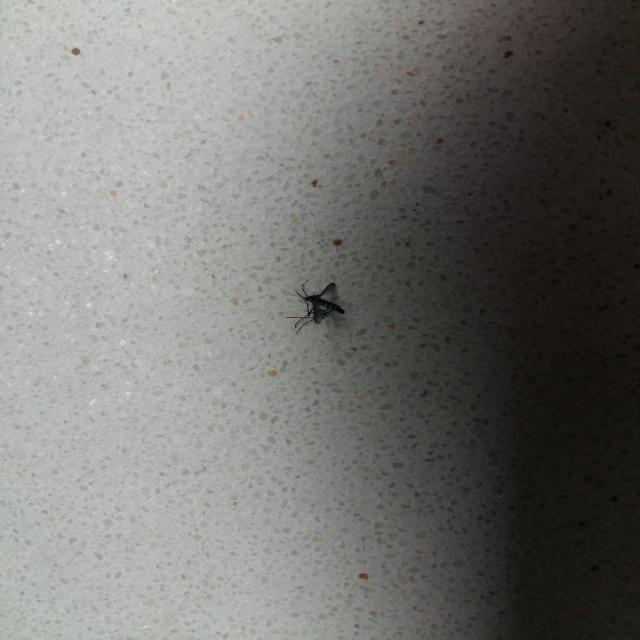albopictus: (283, 278, 351, 333)
